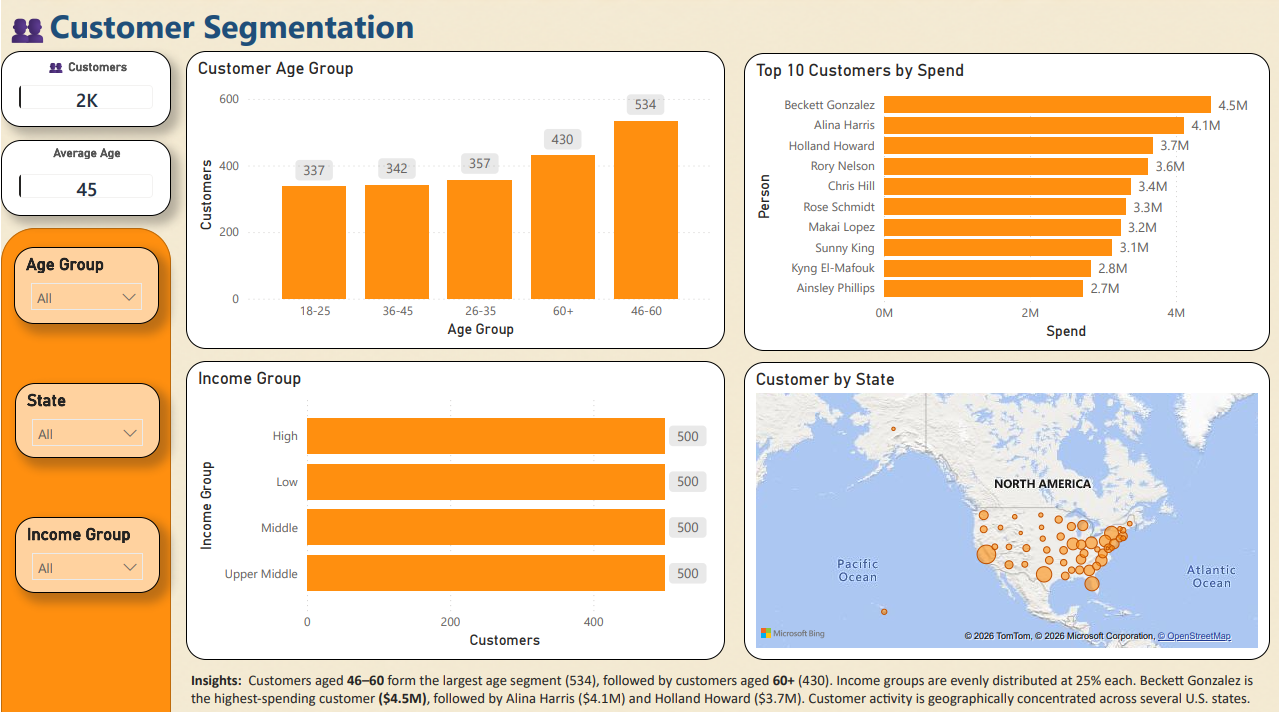

The dashboard page shown, as its layout file describes it:
{"tool":"powerbi","page":{"name":"Customer Segmentation","canvas":[1280,720],"ordinal":1},"visuals":[{"type":"shape","box":[0,230.2,169.6,490.6],"z":0},{"type":"textbox","box":[0,0,445.2,62.1],"z":1000},{"type":"map","title":"Customer by State  ","fields":{"Category":["vw_Customer_Analysis_updated.State"],"Size":["CountNonNull(Customer Analysis.Person)"]},"box":[743.5,363.9,525.4,298.3],"z":2000},{"type":"columnChart","title":"Customer Age Group        ","fields":{"Category":["vw_Customer_Analysis_updated.AgeGroup"],"Y":["CountNonNull(Customer Analysis.Person)"]},"box":[184.7,53,539.1,298.3],"z":3000},{"type":"barChart","title":"Income Group ","fields":{"Category":["Customer Analysis.IncomeGroup"],"Y":["CountNonNull(Customer Analysis.Person)"]},"box":[184.7,363.3,539.1,298.3],"z":4000},{"type":"barChart","title":"Top 10 Customers by Spend","fields":{"Category":["vw_Customer_Analysis_updated.Person"],"Y":["Sum(vw_Customer_Analysis_updated.TotalSpend)"]},"box":[743.5,54.5,525.4,298.3],"z":5000},{"type":"slicer","title":"State","fields":{"Values":["Merchant Analysis.MerchantState"]},"box":[14.3,384.6,145,75.8],"z":6000},{"type":"slicer","title":"Age Group","fields":{"Values":["Customer Analysis.AgeGroup"]},"box":[12.8,249,145,77],"z":7000},{"type":"slicer","title":"Income Group","fields":{"Values":["Customer Analysis.IncomeGroup"]},"box":[13.6,518.9,145,75.8],"z":8000},{"type":"cardVisual","title":"👥 Customers","fields":{"Data":["Sum(Executive Summary.TotalCustomers)"]},"box":[0,53,169.6,75.7],"z":9000},{"type":"textbox","box":[184.7,667.8,1094.8,51.5],"z":10000},{"type":"cardVisual","title":"Average Age","fields":{"Data":["Customer Analysis.Average Age"]},"box":[0,142.3,169.6,75.7],"z":11000}]}

Visuals, with their boxes in screenshot pixels (x1, y1, x2, y2), scaled from the page's 1280x720 canvas onto the 1279x712 screenshot:
shape: 0, 228, 169, 711
textbox: 0, 0, 445, 61
"Customer by State  " map: 743, 360, 1268, 655
"Customer Age Group        " columnChart: 185, 52, 723, 347
"Income Group " barChart: 185, 359, 723, 654
"Top 10 Customers by Spend" barChart: 743, 54, 1268, 349
"State" slicer: 14, 380, 159, 455
"Age Group" slicer: 13, 246, 158, 322
"Income Group" slicer: 14, 513, 158, 588
"👥 Customers" cardVisual: 0, 52, 169, 127
textbox: 185, 660, 1278, 711
"Average Age" cardVisual: 0, 141, 169, 216
